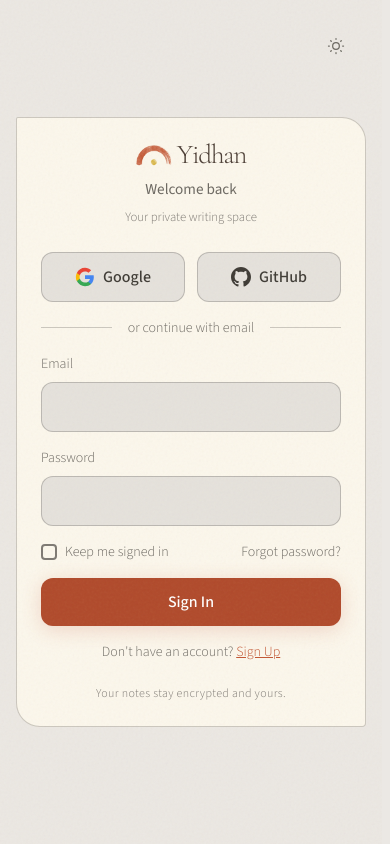
Test: Auth › login flow › shows loading state during login
Type "test@example.com" into the field at (191, 407), box [41,382,341,432]
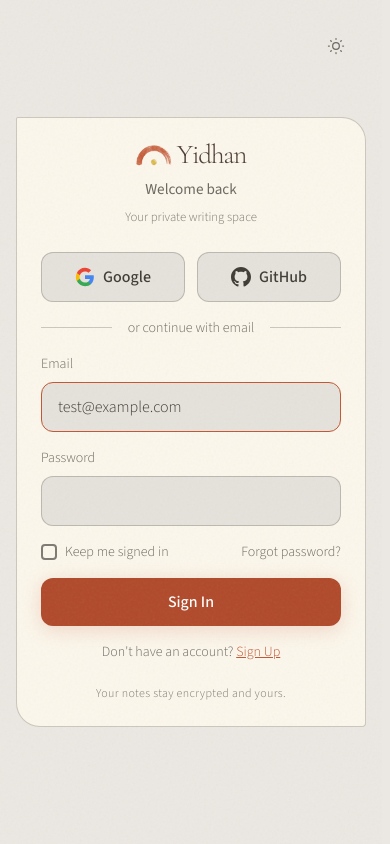
Type "password123" into the password field labelled "Password" at (191, 501), box [41,476,341,526]
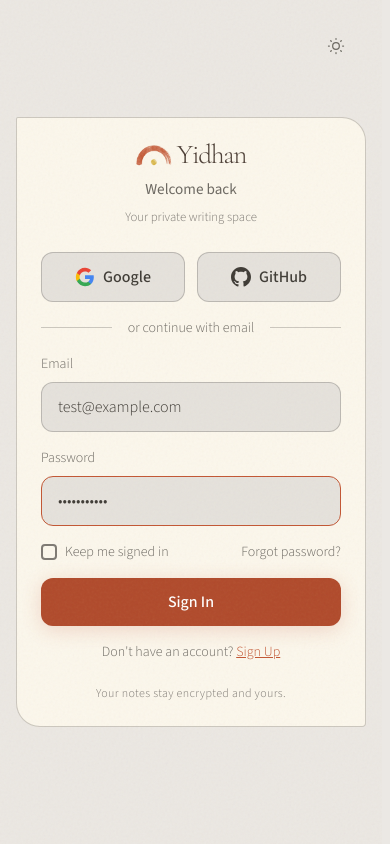
Click the button "Sign In" at (191, 602), box [41,578,341,626]
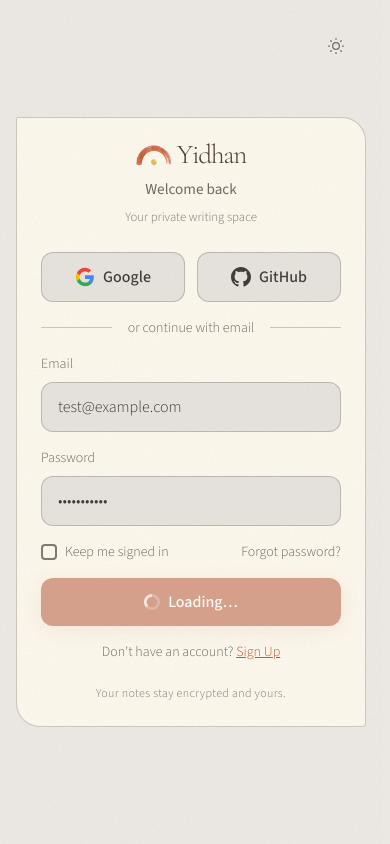
Result: the text "Loading…" is shown at [144,591,238,613]
